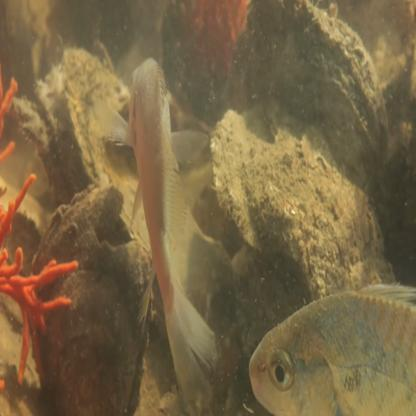Oyster- Indeterminate: (31, 239, 152, 416), (28, 177, 121, 285)
Oyster-Closed: (211, 113, 391, 297), (252, 0, 389, 168), (64, 43, 140, 224)
